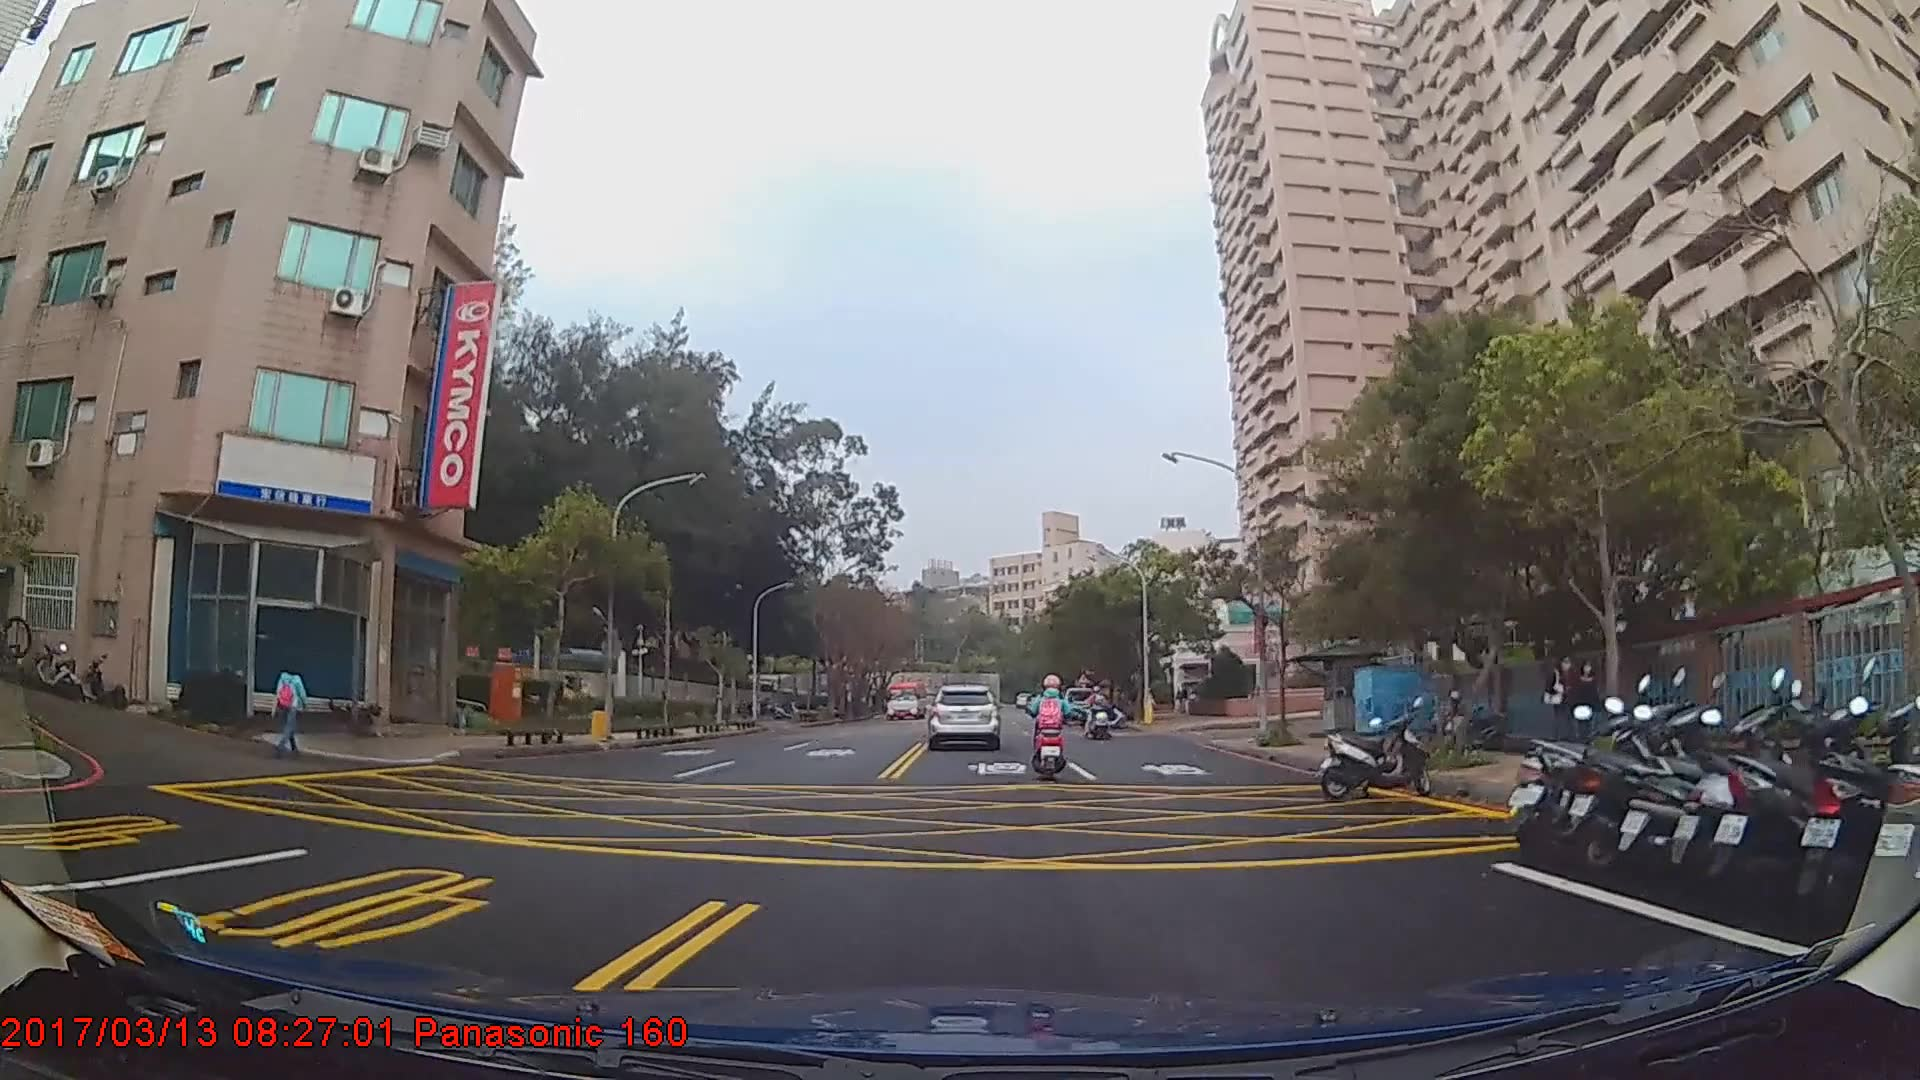pedestrian: (1540, 652, 1582, 757), (1568, 658, 1603, 757), (276, 655, 308, 760)
rider: (1027, 676, 1072, 785), (1083, 685, 1112, 737)
vehicle: (925, 684, 999, 749), (881, 678, 927, 720)
